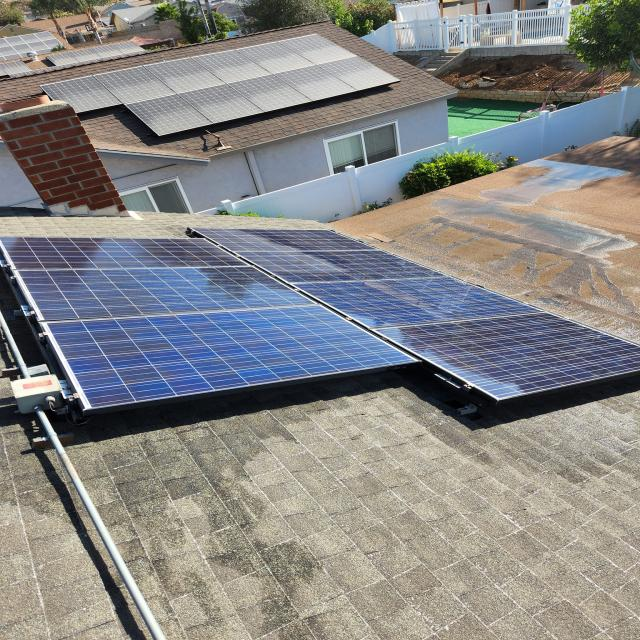clean-solar-panel: (2, 236, 415, 411), (377, 312, 638, 400)
